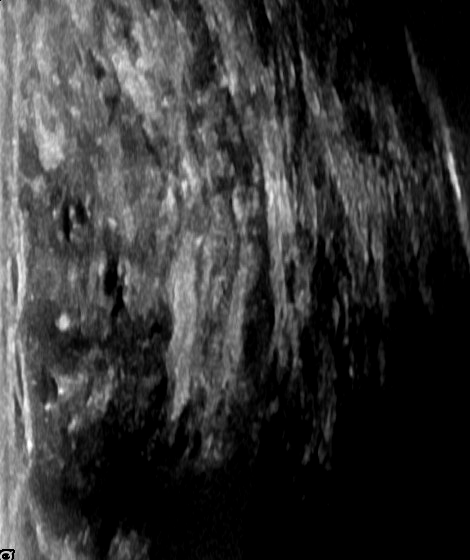Normal: (16, 0, 444, 557)
